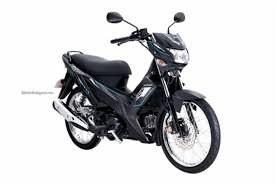motor: (53, 29, 221, 174)
